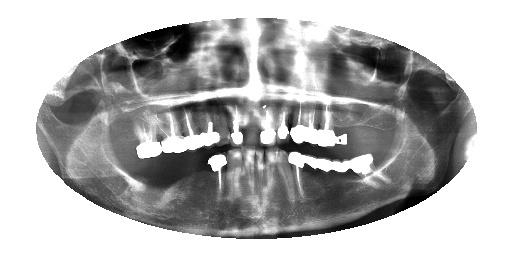Fillings: (351, 151, 393, 190), (136, 117, 161, 158), (333, 158, 351, 179), (307, 155, 319, 183), (319, 156, 331, 181)
Impacted Tooth: (352, 153, 391, 189)
Implant: (160, 109, 186, 154), (208, 152, 228, 198), (288, 151, 306, 200), (183, 109, 202, 150), (319, 105, 337, 147), (260, 108, 277, 145), (231, 102, 244, 147), (291, 105, 306, 144), (201, 116, 220, 146), (306, 104, 319, 147), (277, 110, 290, 142)
